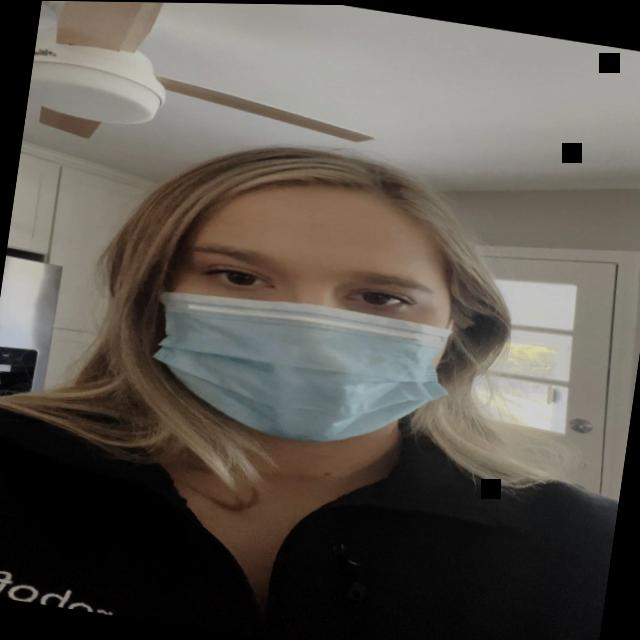Mask: (102, 130, 523, 489)
